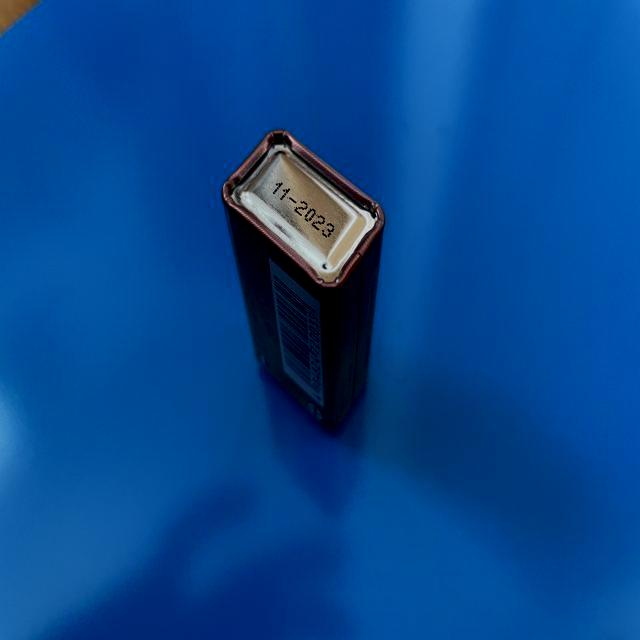9V: (220, 125, 385, 436)
